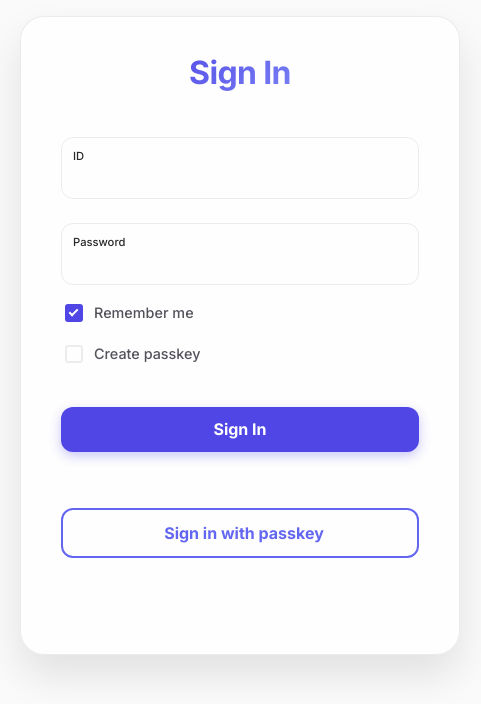
Test case: Account View › shows error when passkey auth options fail
Type "person@example.com" into the field named "ID" at (244, 176), box [82,159,406,194]
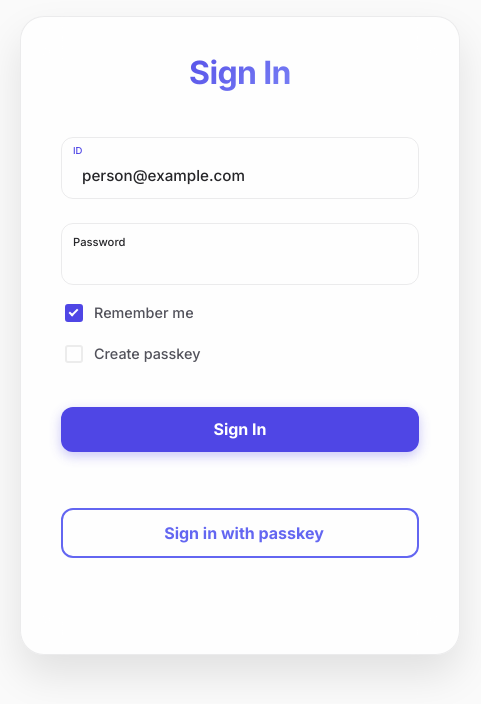
Click the button "Sign in with passkey" at (240, 533), box [61,508,419,558]
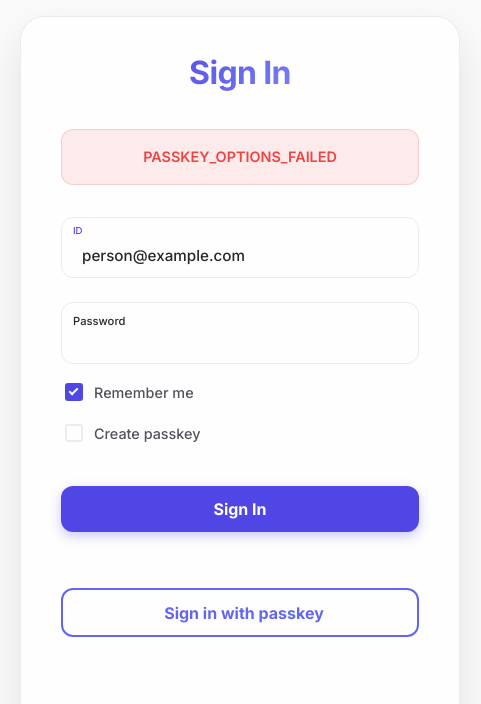
Expected: the text "PASSKEY_OPTIONS_FAILED" is shown, [61,129,419,185]
